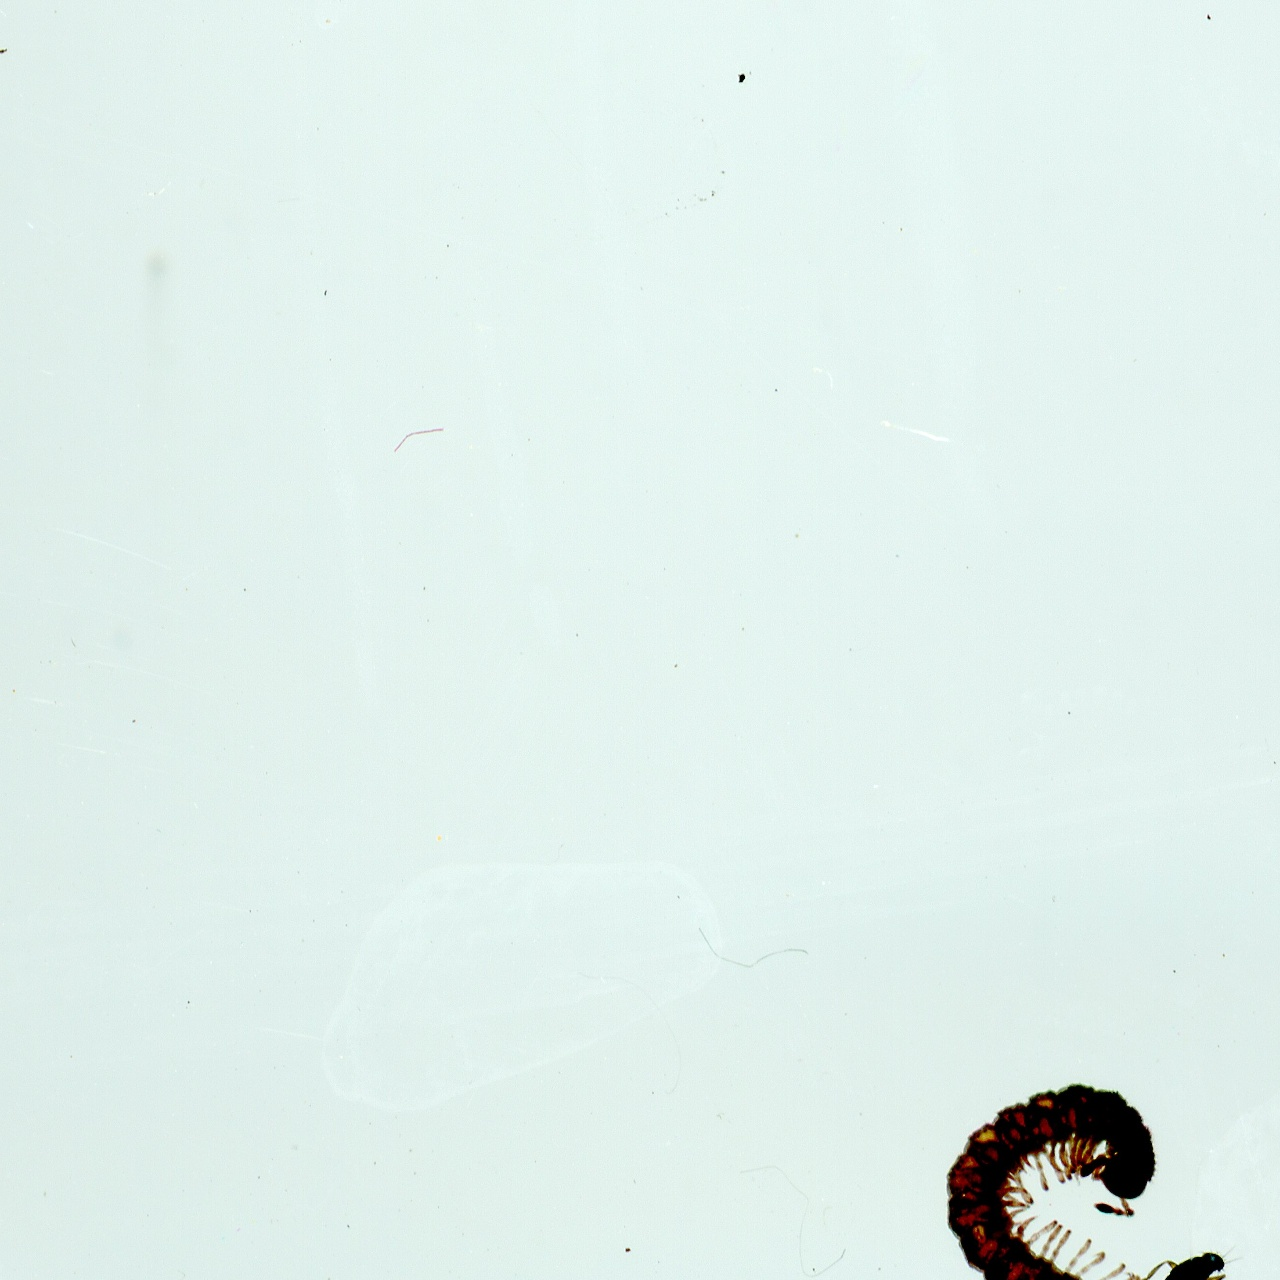arthropod: (935, 1075, 1182, 1280), (1119, 1236, 1253, 1280), (1259, 314, 1280, 459)
